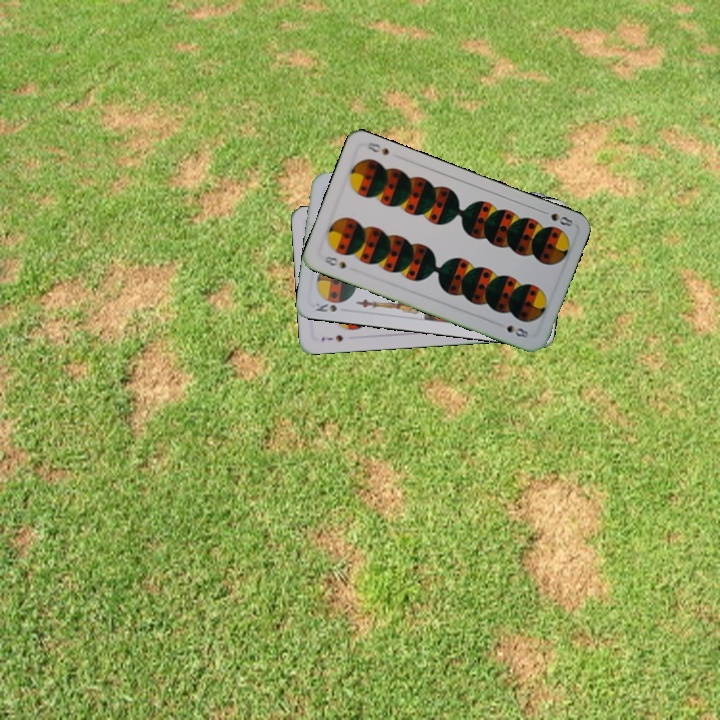S7: (317, 331, 346, 344)
S8: (537, 206, 576, 229), (320, 252, 349, 271)
SK: (312, 299, 340, 315)
